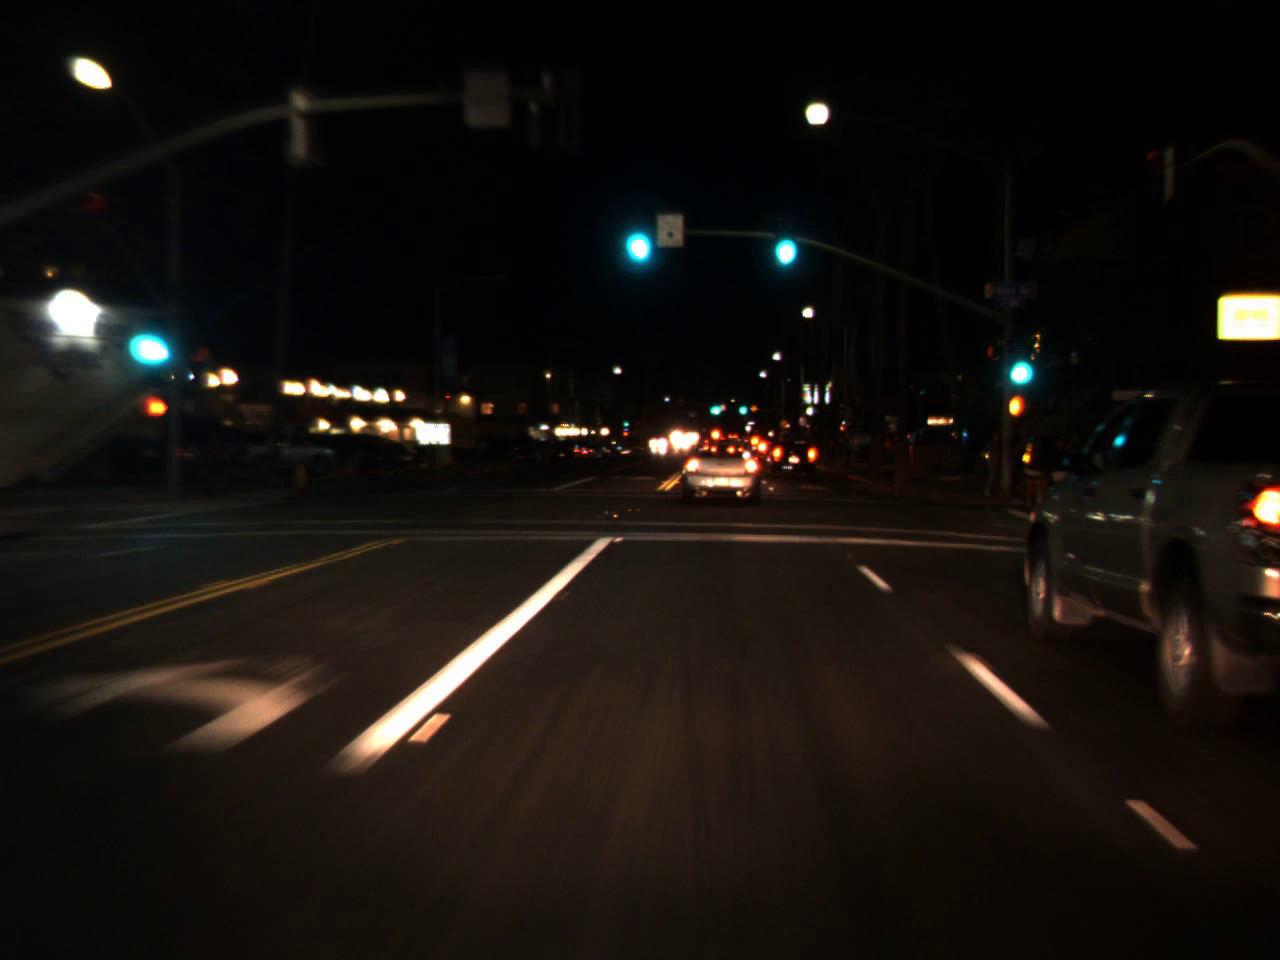go: (122, 298, 174, 376), (615, 193, 656, 274), (766, 204, 802, 276), (999, 329, 1038, 395), (707, 396, 723, 417), (737, 396, 747, 417), (622, 416, 629, 428)
